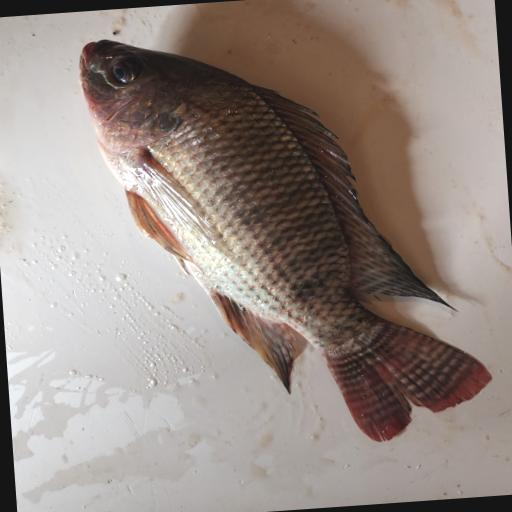Tilapia: (78, 14, 497, 461)
